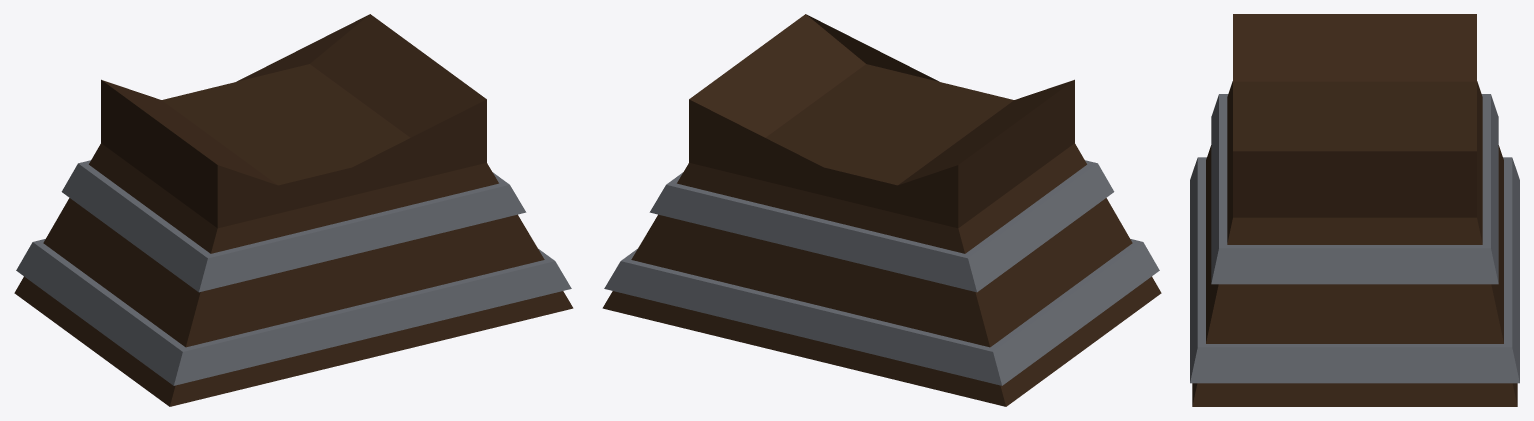
File: SN_Keel_Block.glb
3 views of the same model, side by side, from view 1: azimuth 30°, elevation 25°; view 2: azimuth 150°, elevation 25°; view 3: azimuth 270°, elevation 25° (orthographic). The views are drawn at different scales.
Parts seen in each view (by area): view 1: SN_Keel_Block; view 2: SN_Keel_Block; view 3: SN_Keel_Block.
Part boxes in pixels (x1,y1,x2,y2): SN_Keel_Block: [14, 14, 573, 406]; SN_Keel_Block: [602, 14, 1161, 406]; SN_Keel_Block: [1190, 14, 1519, 406].
Bounding box in the file's own units: 1.2 × 0.6 × 0.8114.
